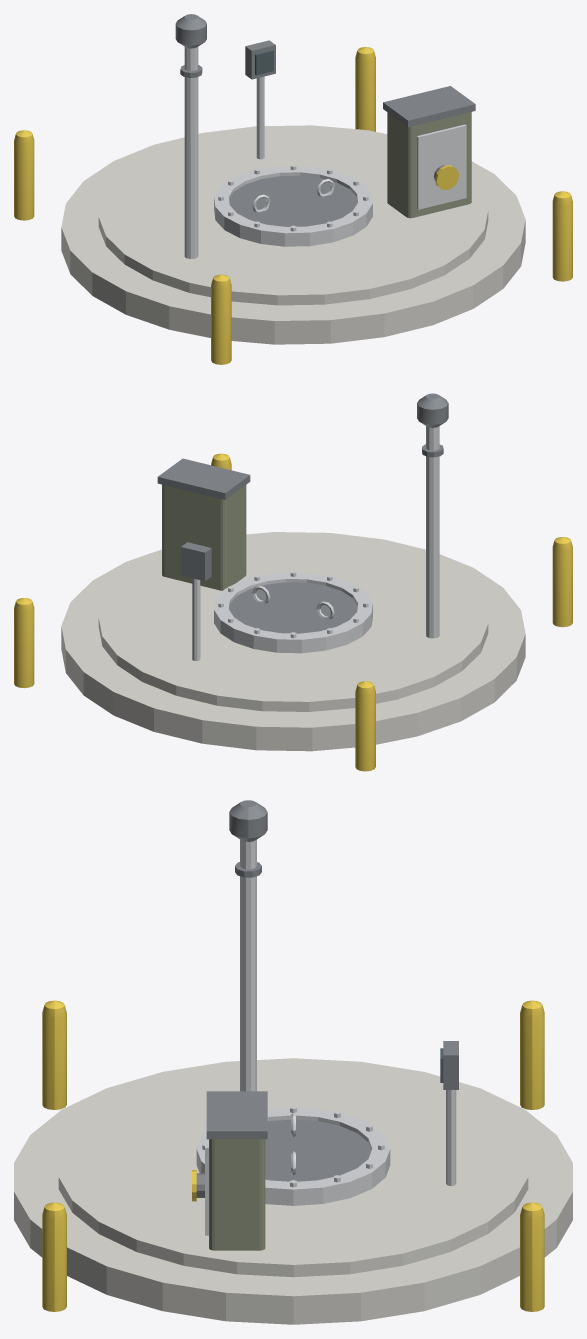
Rendered from cold-war-missile-silo-and-command-bunker-buried-fuel-t-0e650f24__15678.glb.
The picture shows the model from 3 angles, top to bottom: view 1: azimuth 30°, elevation 25°; view 2: azimuth 150°, elevation 25°; view 3: azimuth 270°, elevation 25°; orthographic projection. The views are drawn at different scales.
Parts seen in each view (by area): view 1: buried-fuel-tank-cap; view 2: buried-fuel-tank-cap; view 3: buried-fuel-tank-cap.
Boxes of the visible parts, bbox=[...] form: buried-fuel-tank-cap: bbox=[14, 14, 572, 364]; buried-fuel-tank-cap: bbox=[14, 393, 572, 771]; buried-fuel-tank-cap: bbox=[14, 800, 572, 1324].
Bounding box in the file's own units: 5 × 3.24 × 4.96.
